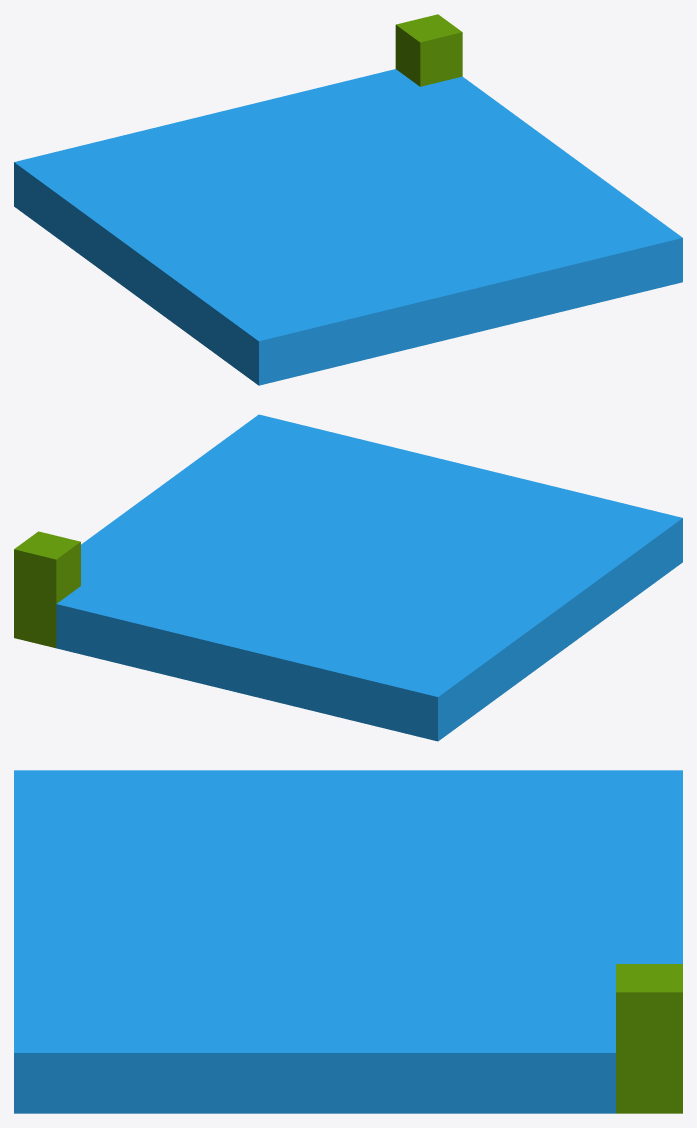
File: TileWater_11.fbx
3 renders of one model, top to bottom at view 1: azimuth 30°, elevation 25°; view 2: azimuth 150°, elevation 25°; view 3: azimuth 270°, elevation 25°, orthographic. The views are drawn at different scales.
Visible parts, largest first — view 1: TileWater_11; view 2: TileWater_11; view 3: TileWater_11.
Part boxes in pixels (box(x1,y1,x2,y2)): TileWater_11: box(14, 14, 682, 385); TileWater_11: box(14, 414, 682, 741); TileWater_11: box(14, 770, 682, 1113).
Size of the model in its own units: 500 by 100 by 500.
